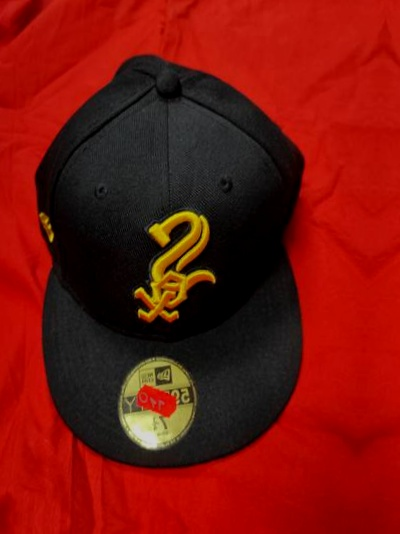Hat: (5, 31, 350, 478), (390, 57, 400, 503)
